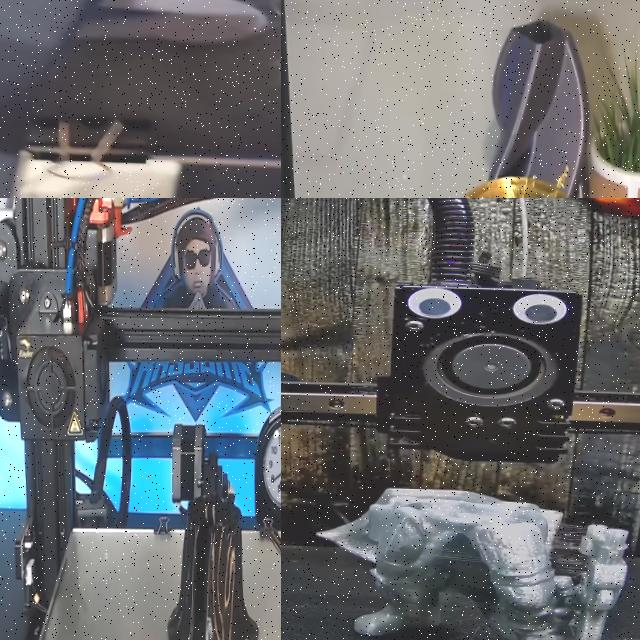spaghetti: (551, 160, 570, 187)
